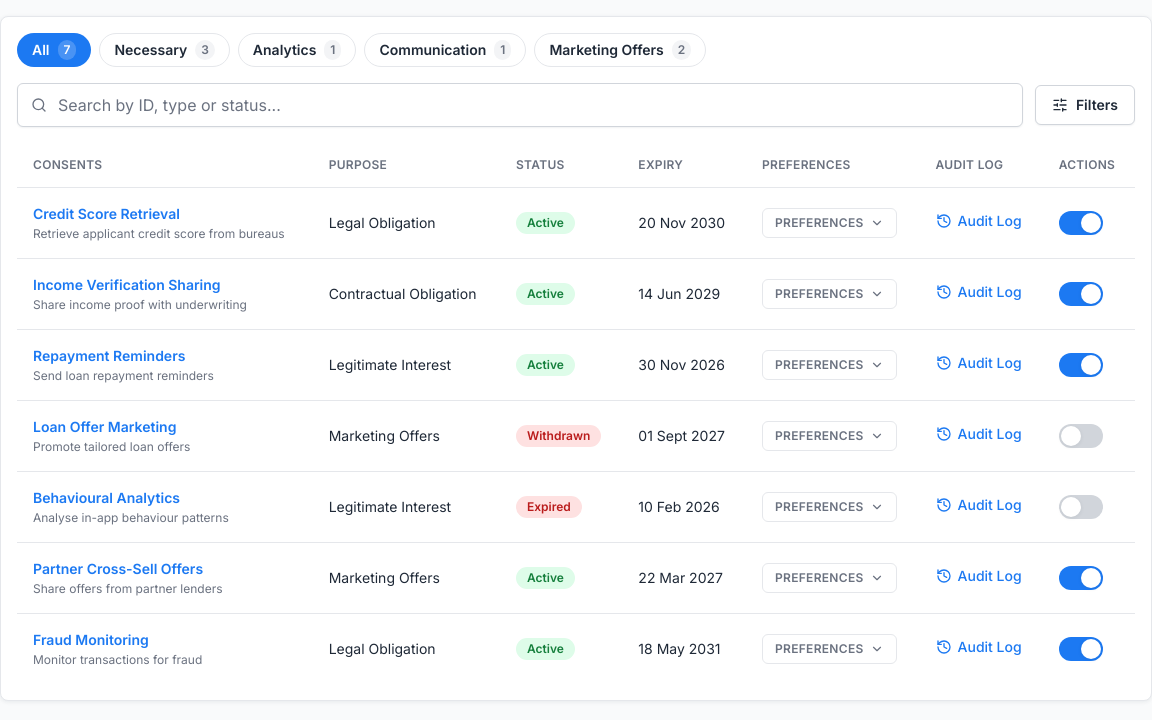
Scenario: ConsentDetail — legal consent withdrawal flow › confirming applies the change, locks the toggle, and records an audit entry
Click the switch named "Toggle Credit Score Retrieval". click: (1081, 222)
box: x1=1059 y1=210 x2=1103 y2=234
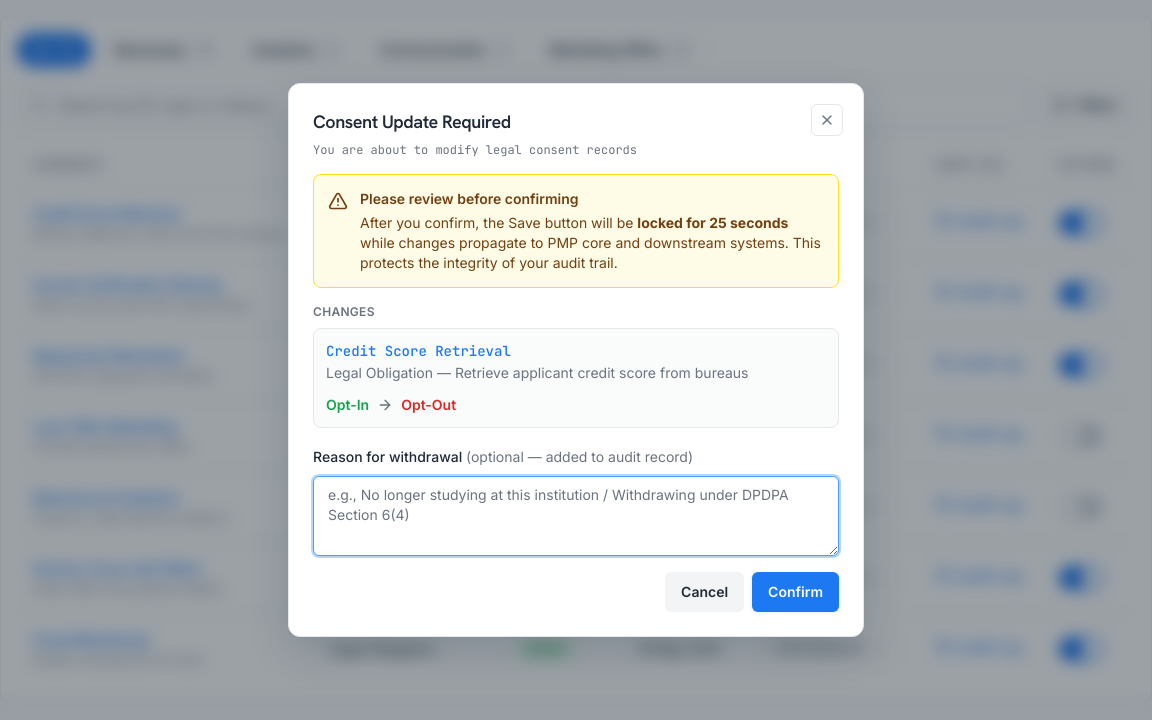
Type "No longer required" into the text box labelled "Reason for withdrawal (optional — added to audit record)". click: (576, 516)
box: x1=313 y1=476 x2=839 y2=556
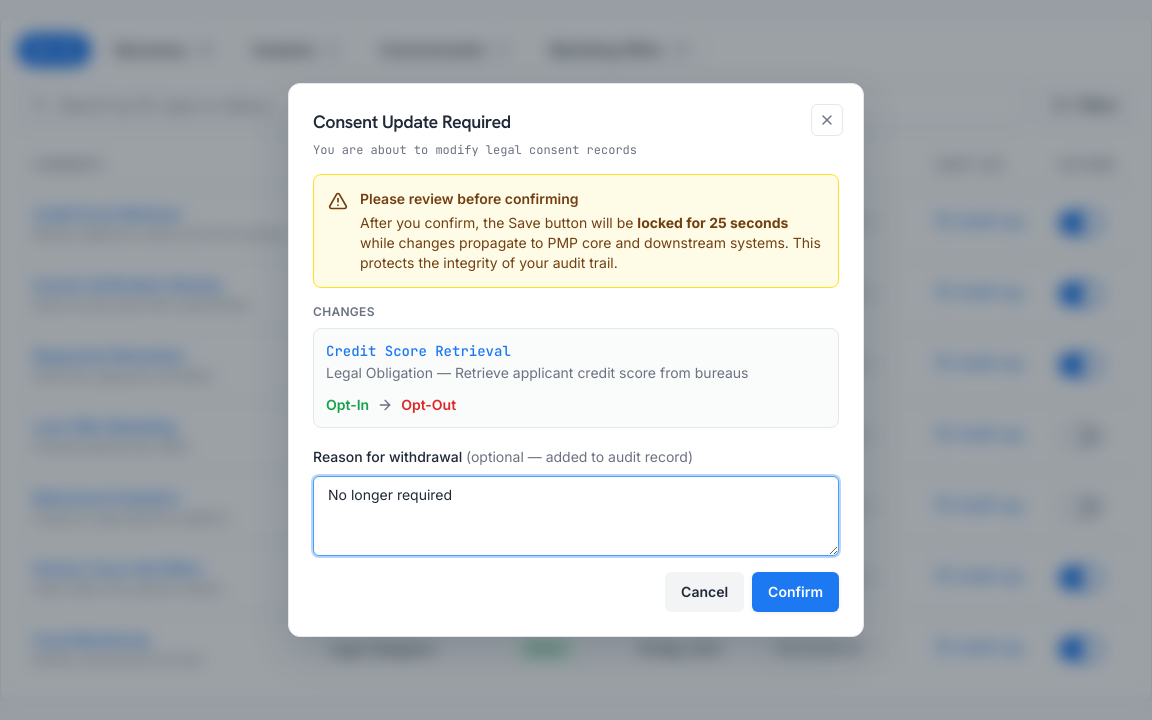
Click the button "Confirm". click: (796, 592)
box: x1=752 y1=572 x2=839 y2=612
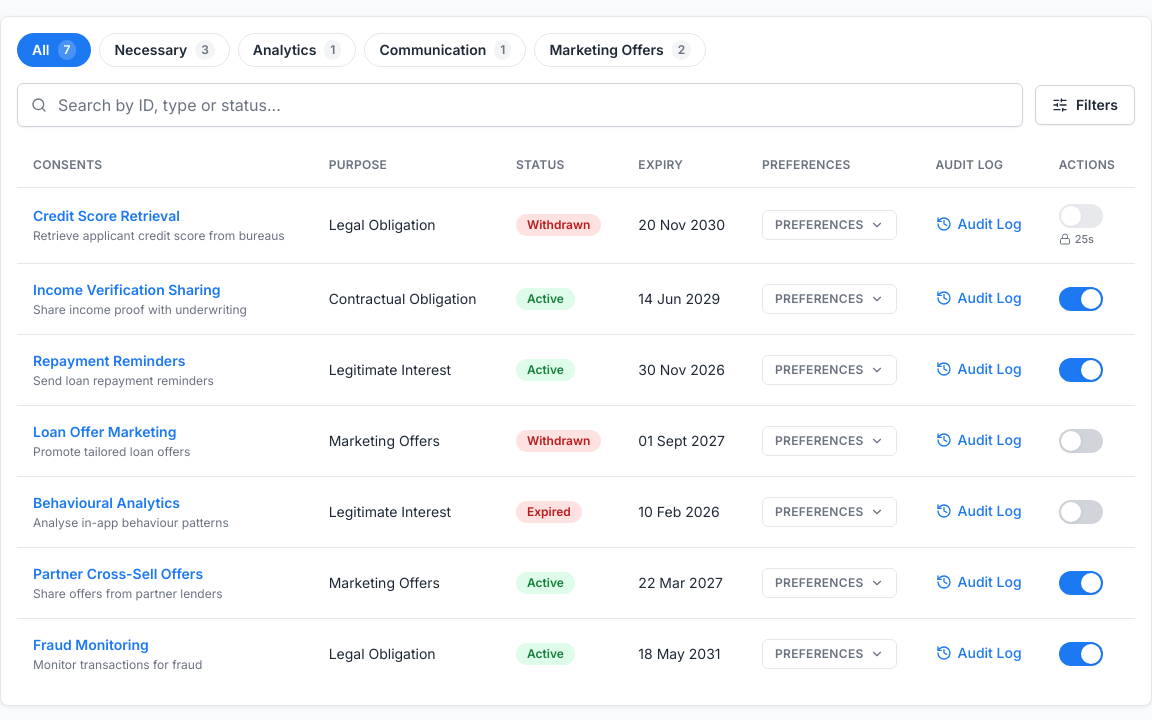
expect the heading "Consent Update Required" is gone: met
Note: The new version + reason appear in the audit log.
Click the button "Audit Log" in the row of "Credit Score Retrieval". click: (979, 224)
box: x1=936 y1=214 x2=1022 y2=234
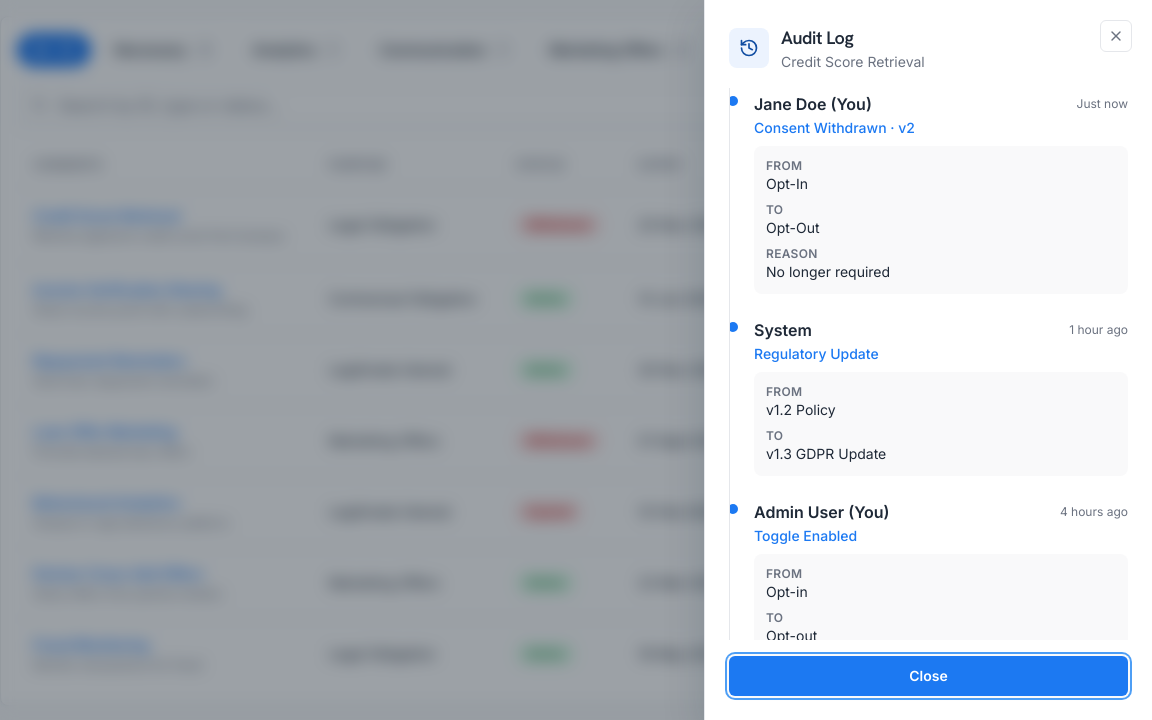
expect the text "Consent Withdrawn · v2" is shown: met, box x1=754 y1=119 x2=915 y2=136
expect the text "No longer required" is shown: met, box x1=766 y1=263 x2=890 y2=280
